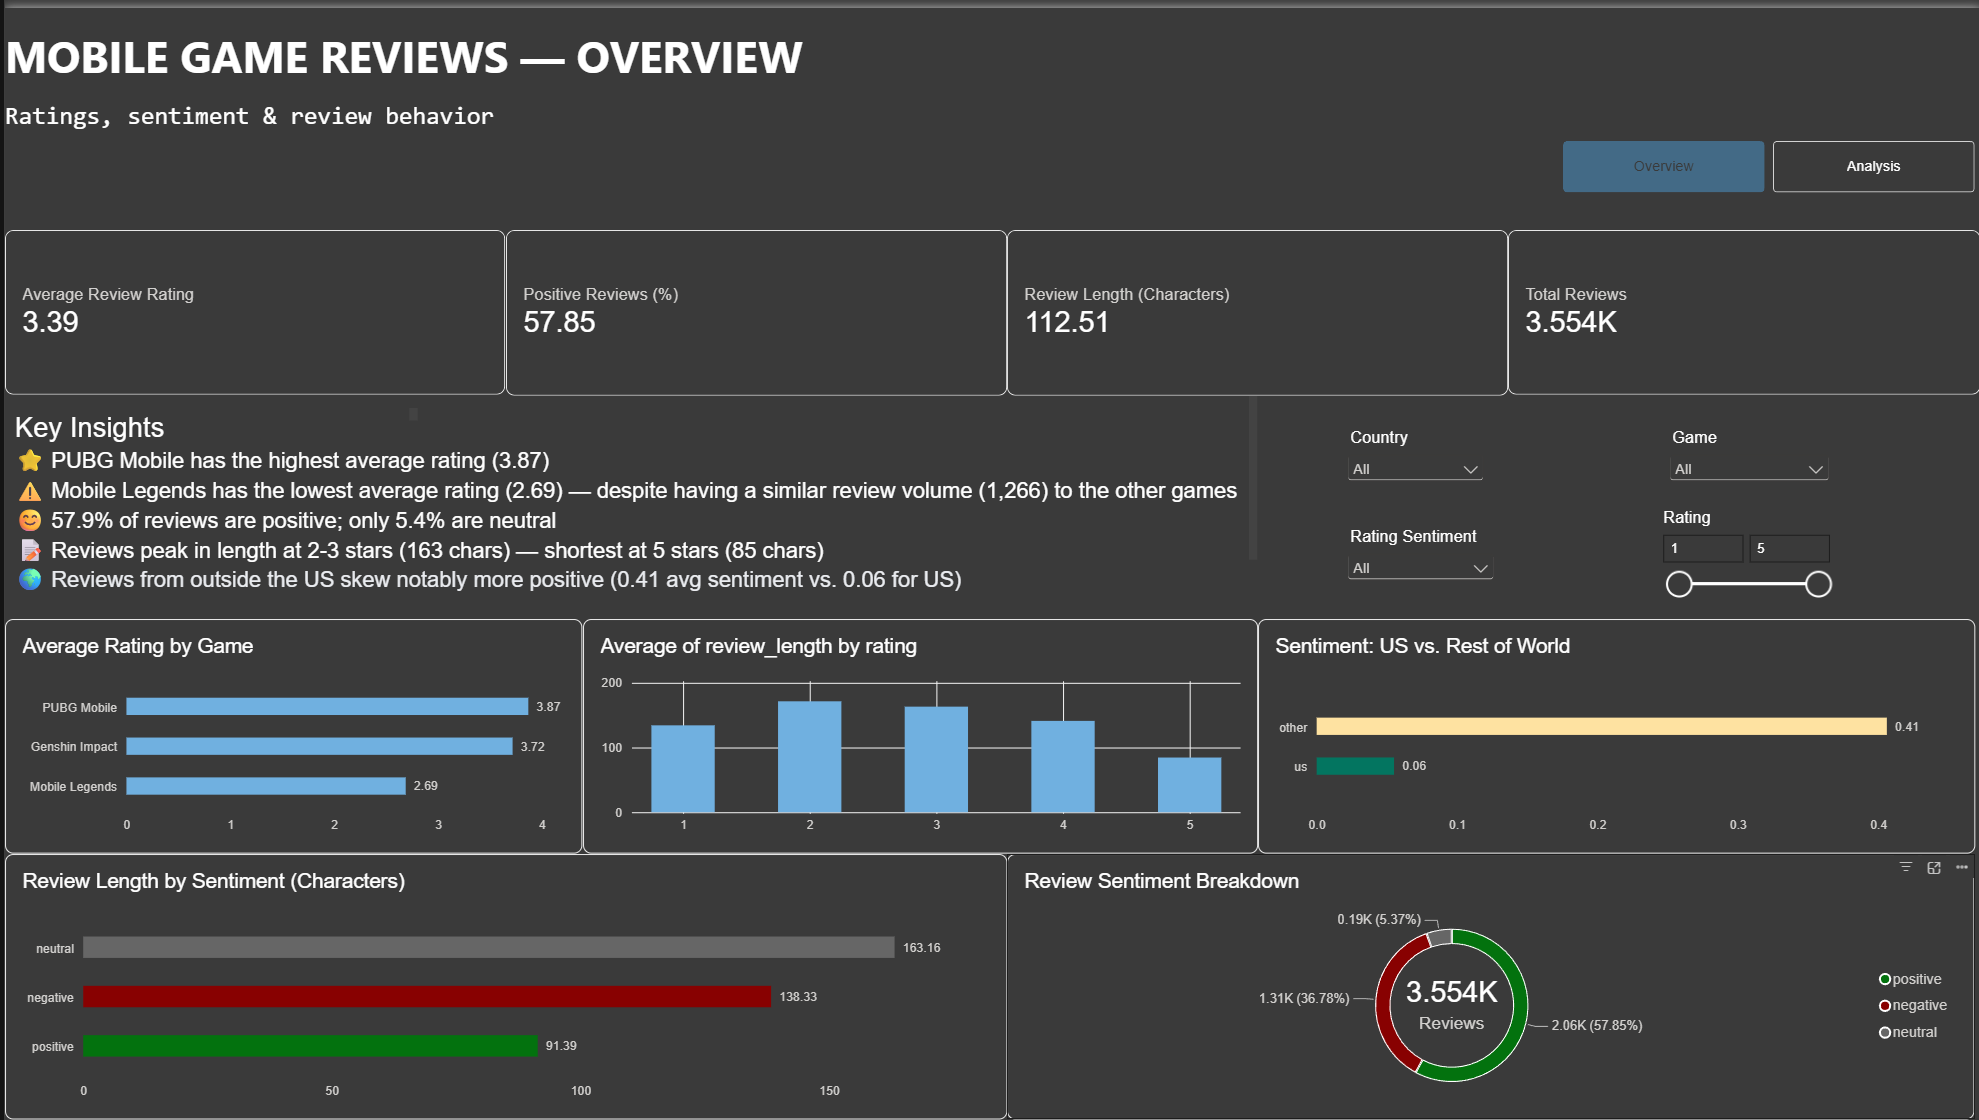

What the dashboard file says about the page in this screenshot:
{"tool":"powerbi","page":{"name":"Overview","canvas":[1920,1080],"ordinal":0},"visuals":[{"type":"barChart","title":"Average Rating by Game","fields":{"Y":["Avg(public game_reviews.rating)"],"Category":["public game_reviews.game"]},"box":[0,593.9,561.5,227.7],"z":0},{"type":"barChart","title":"Review Length by Sentiment (Characters)","fields":{"Category":["public game_reviews.rating_label"],"Y":["Avg(public game_reviews.review_length)"]},"box":[0,821.6,973.7,258.2],"z":1000},{"type":"barChart","title":"Sentiment: US vs. Rest of World","fields":{"Category":["public game_reviews.country_group"],"Y":["Avg(public game_reviews.sentiment_score)"]},"box":[1217.2,593.9,696.9,227.7],"z":2000},{"type":"donutChart","title":"Review Sentiment Breakdown","fields":{"Category":["public game_reviews.rating_label"],"Y":["CountNonNull(public game_reviews.game)"]},"box":[973.7,821.6,940.4,258.2],"z":3000},{"type":"cardVisual","fields":{"Data":["Avg(public game_reviews.rating)"]},"box":[0,216,486.9,161],"z":4000},{"type":"cardVisual","fields":{"Data":["Avg(public game_reviews.review_length)"]},"box":[973.7,216,487,161],"z":5000},{"type":"cardVisual","fields":{"Data":["CountNonNull(public game_reviews.game)"]},"box":[1460.6,216,459.4,161],"z":6000},{"type":"cardVisual","fields":{"Data":["public game_reviews.Pct Positive"]},"box":[486.9,216,487,161],"z":7000},{"type":"slicer","title":"Game","fields":{"Values":["public game_reviews.game"]},"box":[1612,409.1,165.9,52],"z":8000},{"type":"slicer","fields":{"Values":["public game_reviews.country_group"]},"box":[1298.7,409.3,143.3,52],"z":9000},{"type":"slicer","fields":{"Values":["public game_reviews.rating_label"]},"box":[1299.1,505.3,153.1,64.8],"z":10000},{"type":"slicer","fields":{"Values":["public game_reviews.rating"]},"box":[1603.2,486.8,174.9,167.1],"z":11000},{"type":"clusteredColumnChart","fields":{"Category":["public game_reviews.rating"],"Y":["Avg(public game_reviews.review_length)"]},"box":[561.5,593.9,655.7,227.7],"z":12000},{"type":"textbox","box":[69.7,388.7,330.8,11.8],"z":13000},{"type":"textbox","box":[9.8,376.9,1207.4,208.1],"z":14000},{"type":"textbox","box":[0,17.7,856.9,161],"z":15000}]}

Visuals, with their boxes in screenshot pixels (x1, y1, x2, y2), scaled from the page's 1920x1080 canvas onto the 1979x1120 screenshot:
"Average Rating by Game" barChart: [left=0, top=616, right=579, bottom=852]
"Review Length by Sentiment (Characters)" barChart: [left=0, top=852, right=1004, bottom=1119]
"Sentiment: US vs. Rest of World" barChart: [left=1255, top=616, right=1973, bottom=852]
"Review Sentiment Breakdown" donutChart: [left=1004, top=852, right=1973, bottom=1119]
cardVisual - Avg(public game_reviews.rating): [left=0, top=224, right=502, bottom=391]
cardVisual - Avg(public game_reviews.review_length): [left=1004, top=224, right=1506, bottom=391]
cardVisual - CountNonNull(public game_reviews.game): [left=1505, top=224, right=1978, bottom=391]
cardVisual - public game_reviews.Pct Positive: [left=502, top=224, right=1004, bottom=391]
"Game" slicer: [left=1662, top=424, right=1833, bottom=478]
slicer - public game_reviews.country_group: [left=1339, top=424, right=1486, bottom=478]
slicer - public game_reviews.rating_label: [left=1339, top=524, right=1497, bottom=591]
slicer - public game_reviews.rating: [left=1652, top=505, right=1833, bottom=678]
clusteredColumnChart - public game_reviews.rating x Avg(public game_reviews.review_length): [left=579, top=616, right=1255, bottom=852]
textbox: [left=72, top=403, right=413, bottom=415]
textbox: [left=10, top=391, right=1255, bottom=607]
textbox: [left=0, top=18, right=883, bottom=185]
